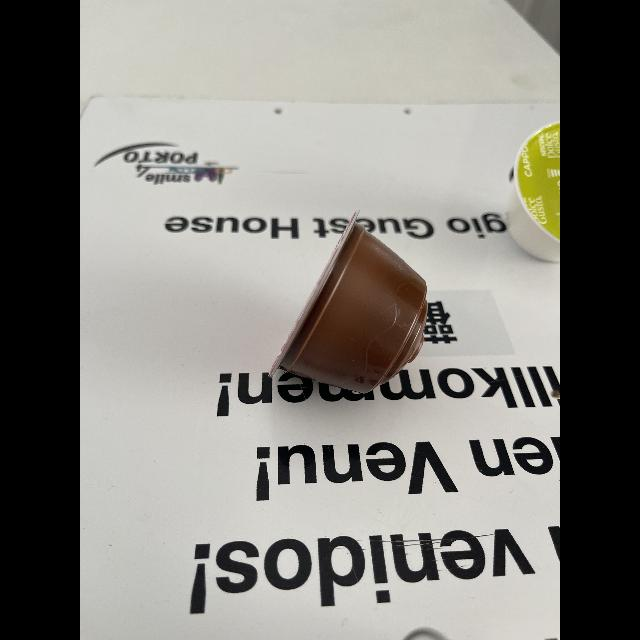intact_capsule: (261, 205, 441, 415)
